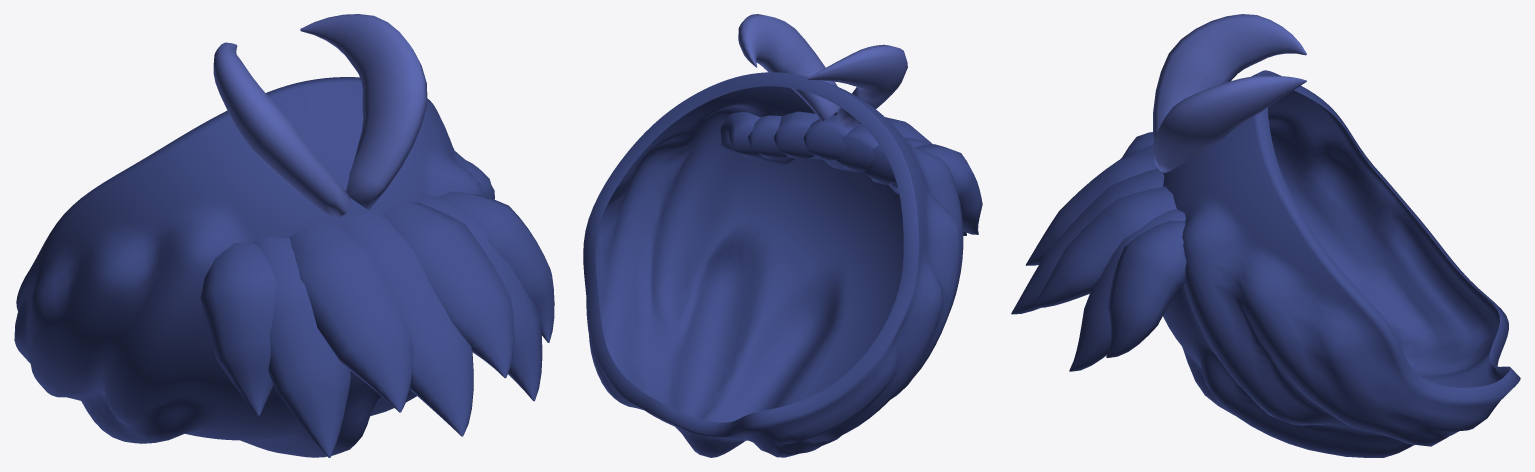
File: 04_jonathan_hair.obj
3 views of the same model, side by side, from view 1: azimuth 30°, elevation 25°; view 2: azimuth 150°, elevation 25°; view 3: azimuth 270°, elevation 25° (orthographic). The views are drawn at different scales.
Visible parts, largest first — view 1: 04_jonathan_hair; view 2: 04_jonathan_hair; view 3: 04_jonathan_hair.
Boxes of the visible parts, x1,y1,x2,y2 form: 04_jonathan_hair: (14, 14, 554, 457); 04_jonathan_hair: (583, 14, 982, 457); 04_jonathan_hair: (1011, 14, 1520, 457).
Bounding box in the file's own units: 3.23 × 3.28 × 3.86.
